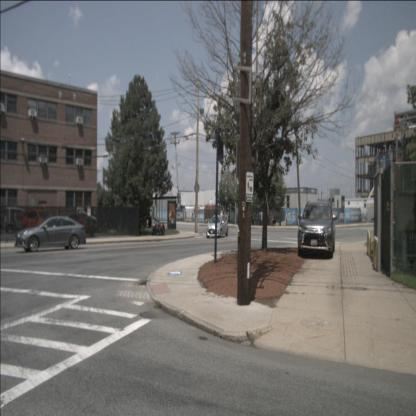human-pedestrian-adult: (272, 215, 276, 226)
vehicle-car: (15, 216, 86, 252), (298, 201, 335, 258), (22, 209, 57, 235), (60, 213, 97, 237), (2, 206, 30, 234), (206, 214, 228, 238)
vehicle-motorcycle: (151, 217, 165, 236)
